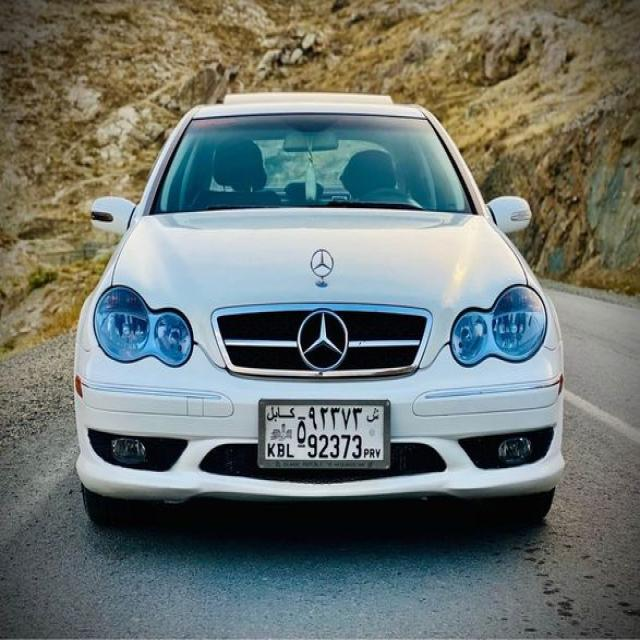Plate: (260, 396, 388, 466)
